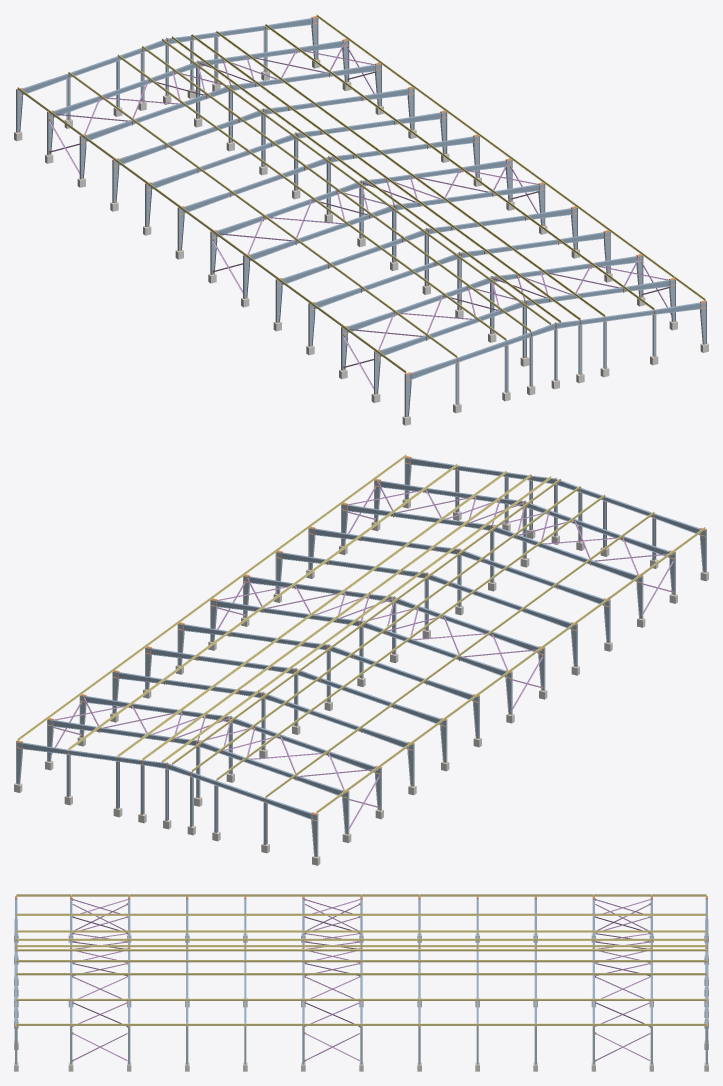
The model's file is peb_model.glb.
3 views of the same model, one above another, from view 1: azimuth 30°, elevation 25°; view 2: azimuth 150°, elevation 25°; view 3: azimuth 270°, elevation 25° (orthographic). The views are drawn at different scales.
Parts seen in each view (by area): view 1: rafter, purlin, column, bracing, concrete, plate; view 2: rafter, purlin, column, bracing, concrete, plate; view 3: purlin, bracing, rafter, column, concrete, plate.
Boxes of the visible parts, bbox=[...] form: rafter: bbox=[23, 18, 700, 379]; purlin: bbox=[17, 14, 705, 373]; column: bbox=[16, 17, 706, 416]; bracing: bbox=[49, 42, 671, 389]; concrete: bbox=[14, 58, 708, 425]; plate: bbox=[16, 16, 706, 380]; rafter: bbox=[22, 458, 699, 819]; purlin: bbox=[17, 454, 705, 813]; column: bbox=[16, 457, 706, 856]; bracing: bbox=[51, 482, 673, 829]; concrete: bbox=[14, 498, 708, 865]; plate: bbox=[16, 456, 706, 820]; purlin: bbox=[16, 894, 706, 1025]; bracing: bbox=[72, 899, 650, 1061]; rafter: bbox=[15, 899, 707, 1023]; column: bbox=[14, 920, 708, 1064]; concrete: bbox=[14, 933, 708, 1071]; plate: bbox=[14, 896, 708, 1026].
Bounding box in the file's own units: 41.15 × 8.55 × 91.75.
